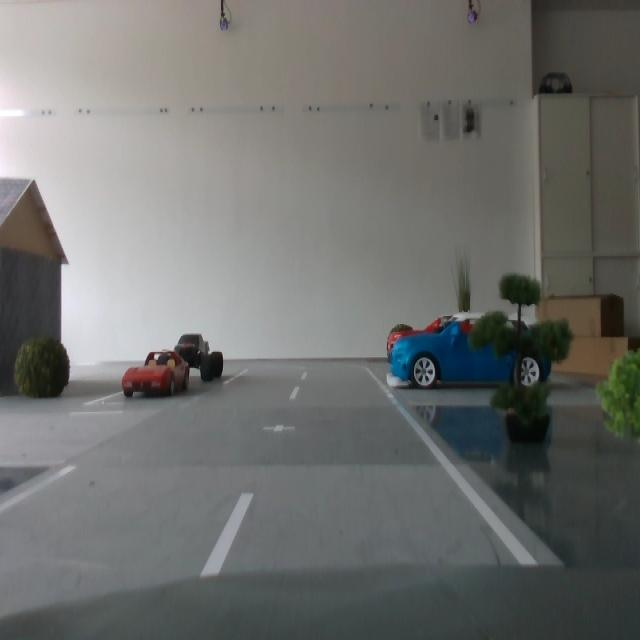car: (390, 313, 552, 389), (389, 315, 551, 386), (122, 349, 190, 398), (166, 331, 225, 387)
potted plant: (469, 274, 578, 447), (594, 347, 640, 454), (12, 330, 73, 404), (450, 247, 472, 345), (388, 323, 419, 364)
